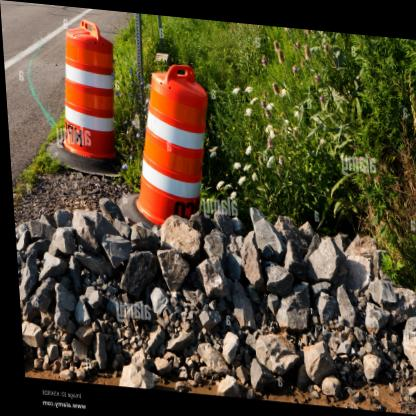obstacle: (114, 53, 225, 239), (50, 15, 120, 163)
